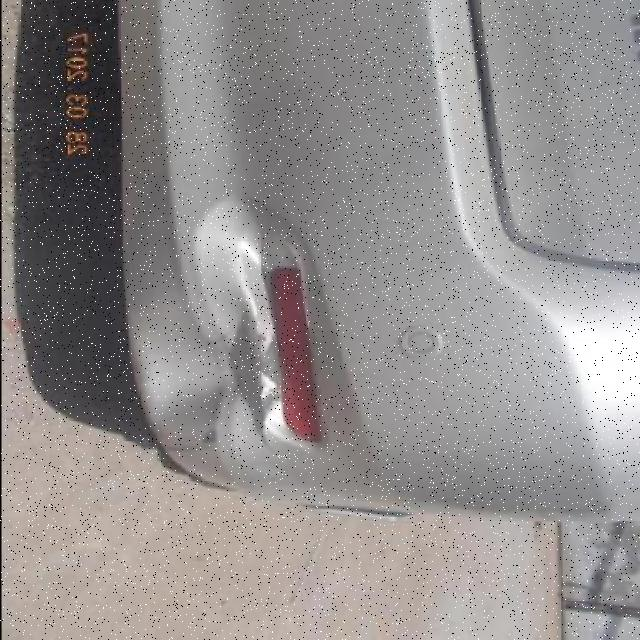damage: (127, 289, 276, 443)
